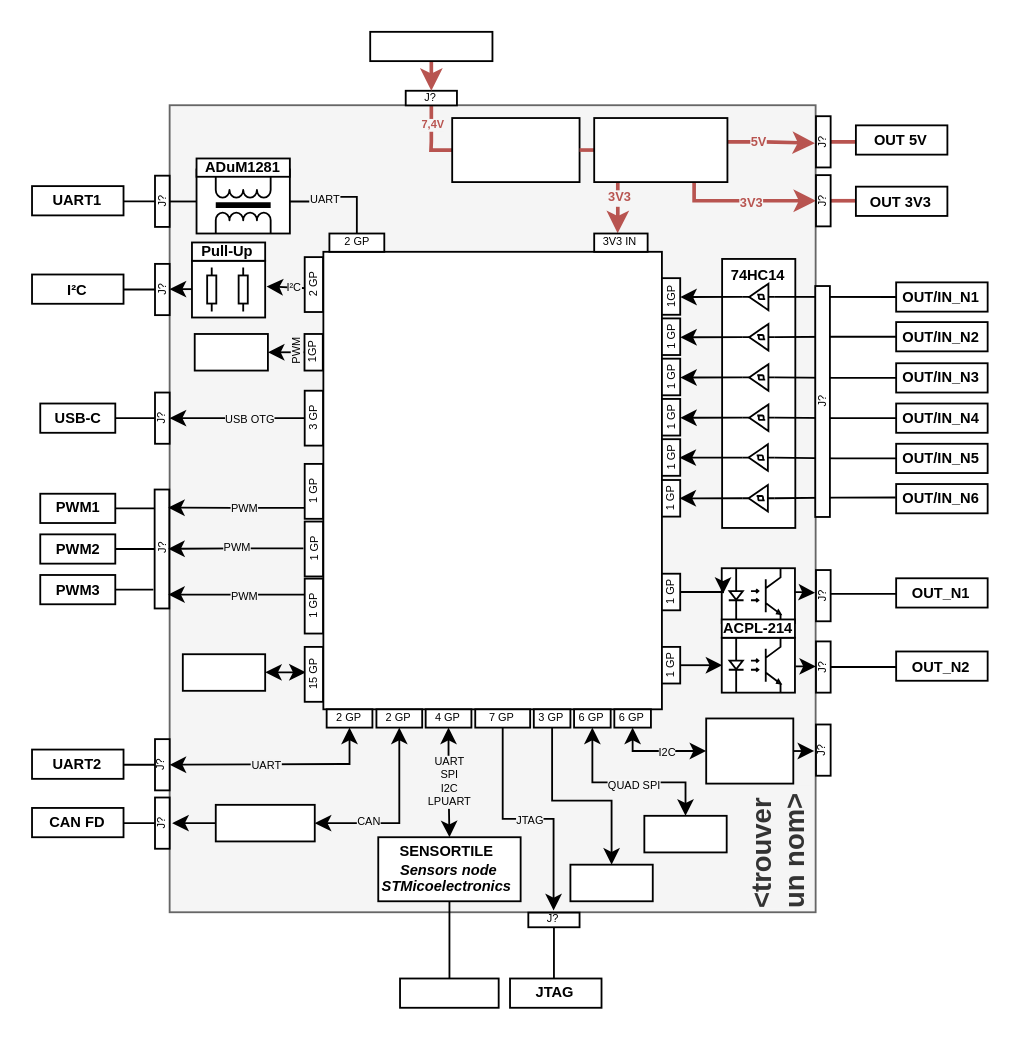
The diagram is 1021 pixels wide and 1041 high, and some of its shapes have lost their labels. The centre of each missing label's shape, as x and y in pixels:
"24 V/Battery 3S" belongs at (x=430, y=45).
"Bluetooth 4.1" belongs at (x=448, y=992).
"Buzzer" belongs at (x=230, y=351).
"EXTENDER GPIO" belongs at (x=748, y=750).
"FLASH" belongs at (x=223, y=671).
"LED RGB" belongs at (x=611, y=882).
"LTC4365 Protection Analog Devices" belongs at (x=515, y=149).
"MRAM" belongs at (x=685, y=833).
"STM32H753ZIT6 Arm Cortex-M7 MCU STMicroelectronics" belongs at (x=492, y=479).
"TPS62933 x2 DC/DC Buck Texas Instruments" belongs at (x=659, y=149).
"TRANCIVER CAN" belongs at (x=264, y=822).
